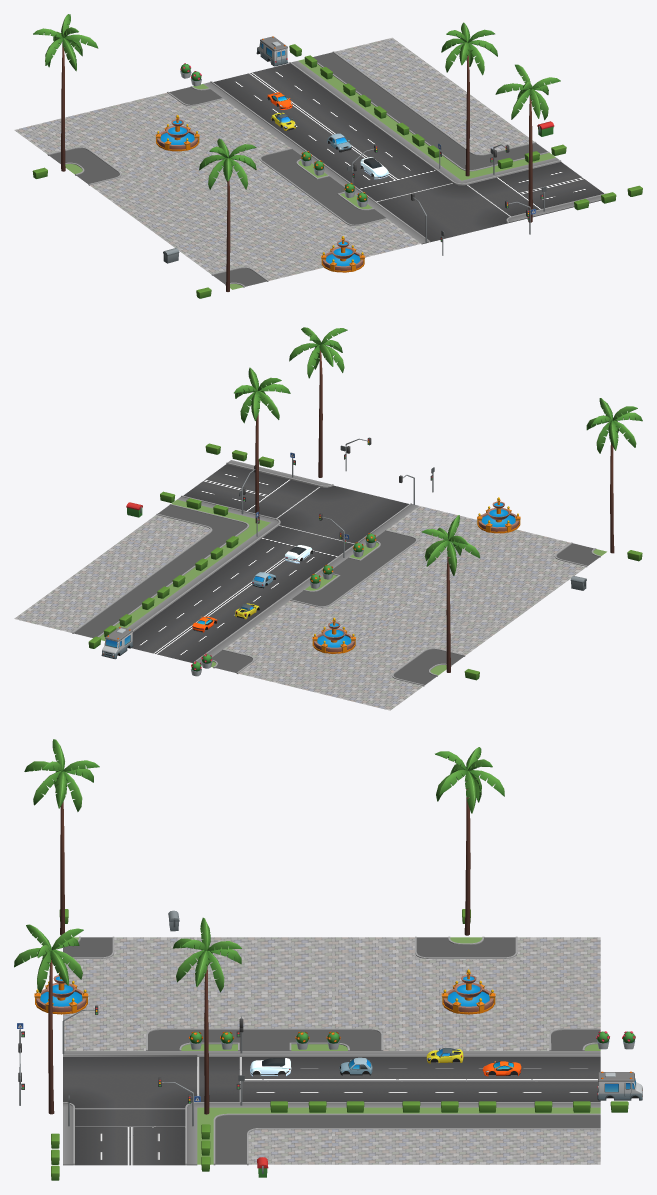
File: city_level.glb
The picture shows the model from 3 angles, top to bottom: view 1: azimuth 30°, elevation 25°; view 2: azimuth 150°, elevation 25°; view 3: azimuth 270°, elevation 25°; orthographic projection. The views are drawn at different scales.
Visible parts, largest first — view 1: Set_B_Tiles_06.008, road_003.008, Set_B_Tiles_09.013, Set_B_Tiles_06.006, Set_B_Tiles_06.009, Set_B_Tiles_04.030, Set_B_Tiles_05.113, road_001.284, road_020.085, Set_B_Tiles_05.112, road_001.283, Set_B_Tiles_06.003 (+12 smaller); view 2: Set_B_Tiles_06.009, Set_B_Tiles_06.006, Set_B_Tiles_09.013, Set_B_Tiles_06.008, road_003.008, Set_B_Tiles_04.030, Set_B_Tiles_05.112, Set_B_Tiles_01.062, road_020.085, Set_B_Tiles_06.007, Set_B_Tiles_05.113, road_001.283 (+11 smaller); view 3: road_020.085, road_003.008, Set_B_Tiles_06.008, Set_B_Tiles_05.112, Set_B_Tiles_05.113, Set_B_Tiles_06.009, Set_B_Tiles_01.062, Set_B_Tiles_06.007, Set_B_Tiles_06.004, Set_B_Tiles_06.003, Set_B_Tiles_04.030, road_001.284 (+12 smaller).
Boxes of the visible parts, x1=… form: Set_B_Tiles_06.008: x1=69, y1=147, x2=217, y2=209; road_003.008: x1=367, y1=180, x2=515, y2=244; Set_B_Tiles_09.013: x1=123, y1=187, x2=271, y2=249; Set_B_Tiles_06.006: x1=179, y1=227, x2=323, y2=289; Set_B_Tiles_06.009: x1=14, y1=107, x2=159, y2=169; Set_B_Tiles_04.030: x1=218, y1=164, x2=358, y2=226; Set_B_Tiles_05.113: x1=298, y1=37, x2=446, y2=100; road_001.284: x1=203, y1=61, x2=351, y2=123; road_020.085: x1=462, y1=157, x2=605, y2=221; Set_B_Tiles_05.112: x1=353, y1=77, x2=500, y2=140; road_001.283: x1=258, y1=100, x2=406, y2=163; Set_B_Tiles_06.003: x1=273, y1=204, x2=421, y2=262; Set_B_Tiles_06.009: x1=296, y1=649, x2=443, y2=710; Set_B_Tiles_06.006: x1=459, y1=529, x2=606, y2=591; Set_B_Tiles_09.013: x1=405, y1=568, x2=552, y2=630; Set_B_Tiles_06.008: x1=353, y1=608, x2=498, y2=670; road_003.008: x1=271, y1=483, x2=418, y2=545; Set_B_Tiles_04.030: x1=319, y1=545, x2=458, y2=608; Set_B_Tiles_05.112: x1=68, y1=539, x2=215, y2=601; Set_B_Tiles_01.062: x1=123, y1=499, x2=270, y2=562; road_020.085: x1=177, y1=460, x2=324, y2=522; Set_B_Tiles_06.007: x1=211, y1=625, x2=342, y2=687; Set_B_Tiles_05.113: x1=14, y1=579, x2=161, y2=640; road_001.283: x1=163, y1=562, x2=309, y2=624; road_020.085: x1=63, y1=1107, x2=197, y2=1165; road_003.008: x1=63, y1=1051, x2=197, y2=1108; Set_B_Tiles_06.008: x1=332, y1=936, x2=466, y2=994; Set_B_Tiles_05.112: x1=332, y1=1107, x2=466, y2=1164; Set_B_Tiles_05.113: x1=466, y1=1107, x2=600, y2=1164; Set_B_Tiles_06.009: x1=466, y1=936, x2=600, y2=994; Set_B_Tiles_01.062: x1=197, y1=1107, x2=331, y2=1165; Set_B_Tiles_06.007: x1=466, y1=994, x2=600, y2=1050; Set_B_Tiles_06.004: x1=332, y1=994, x2=466, y2=1050; Set_B_Tiles_06.003: x1=63, y1=994, x2=197, y2=1050; Set_B_Tiles_04.030: x1=197, y1=994, x2=331, y2=1050; road_001.284: x1=466, y1=1051, x2=600, y2=1107.
Size of the model in its own units: 69.8 by 22.76 by 70.19.
Materials: 13 (11 with a texture image).
